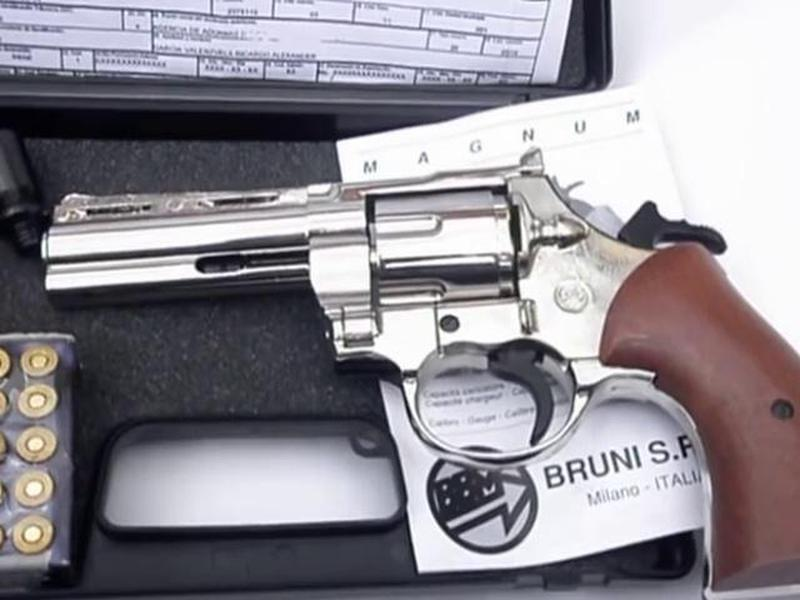Revolver: (42, 144, 800, 521)
